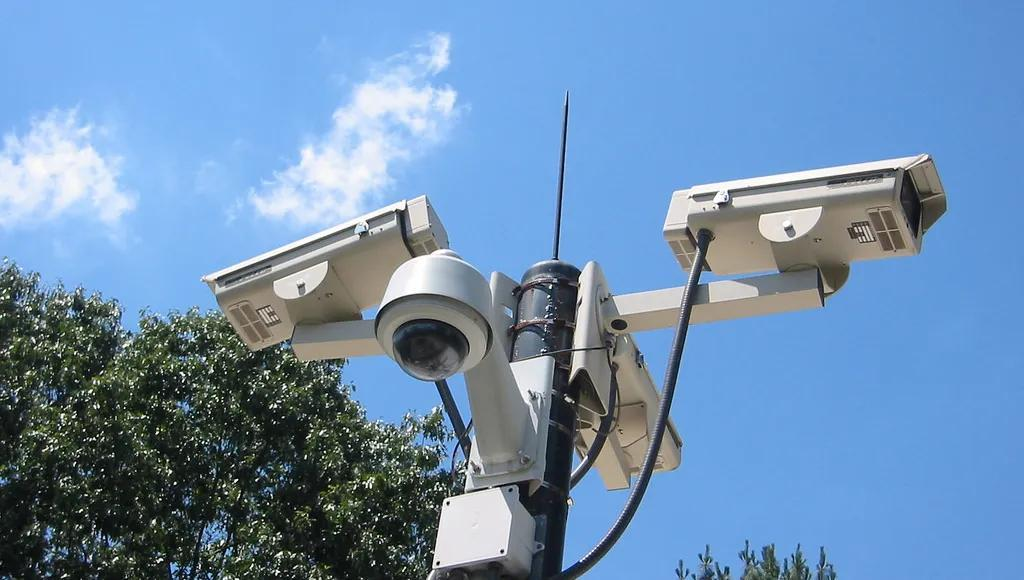------------------------------: (660, 151, 966, 299)
360-Cam: (379, 256, 499, 382)
